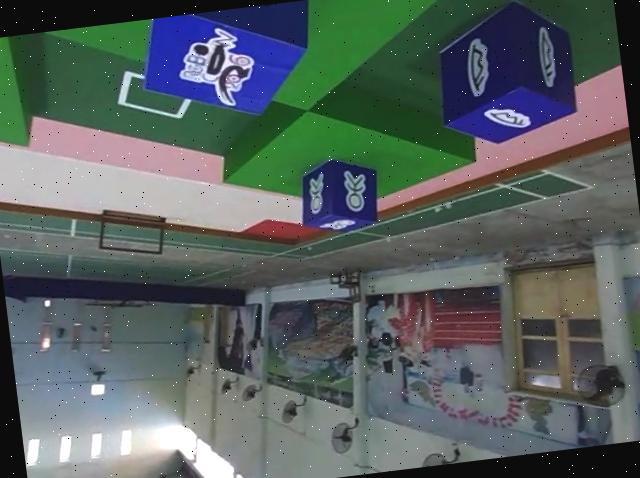R1 Blue: (137, 0, 321, 128)
R2 Real Blue: (426, 0, 578, 149), (292, 153, 382, 238)
